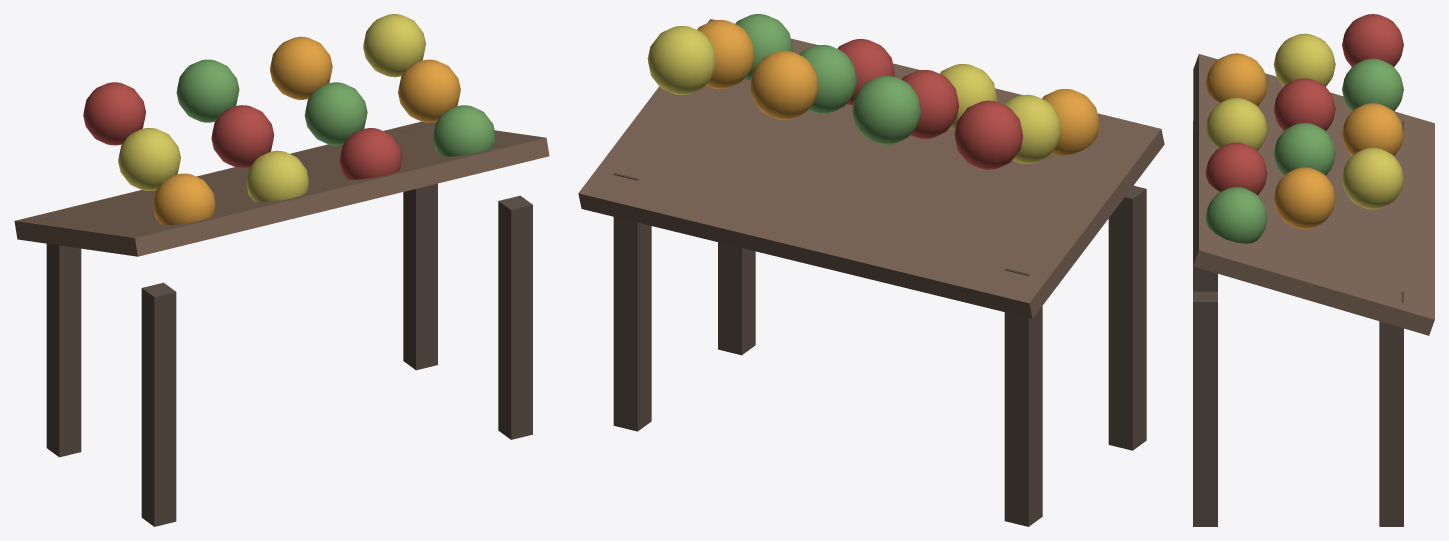
Rendered from prop_kudamono_dai.glb.
3 views of the same model, side by side, from view 1: azimuth 30°, elevation 25°; view 2: azimuth 150°, elevation 25°; view 3: azimuth 270°, elevation 25° (orthographic). The views are drawn at different scales.
Visible parts, largest first — view 1: kudamono_dai; view 2: kudamono_dai; view 3: kudamono_dai.
Part boxes in pixels (bbox=[...]): kudamono_dai: bbox=[14, 14, 549, 526]; kudamono_dai: bbox=[578, 14, 1164, 526]; kudamono_dai: bbox=[1193, 14, 1434, 526].
Size of the model in its own units: 1.5 by 1.26 by 0.7797.
